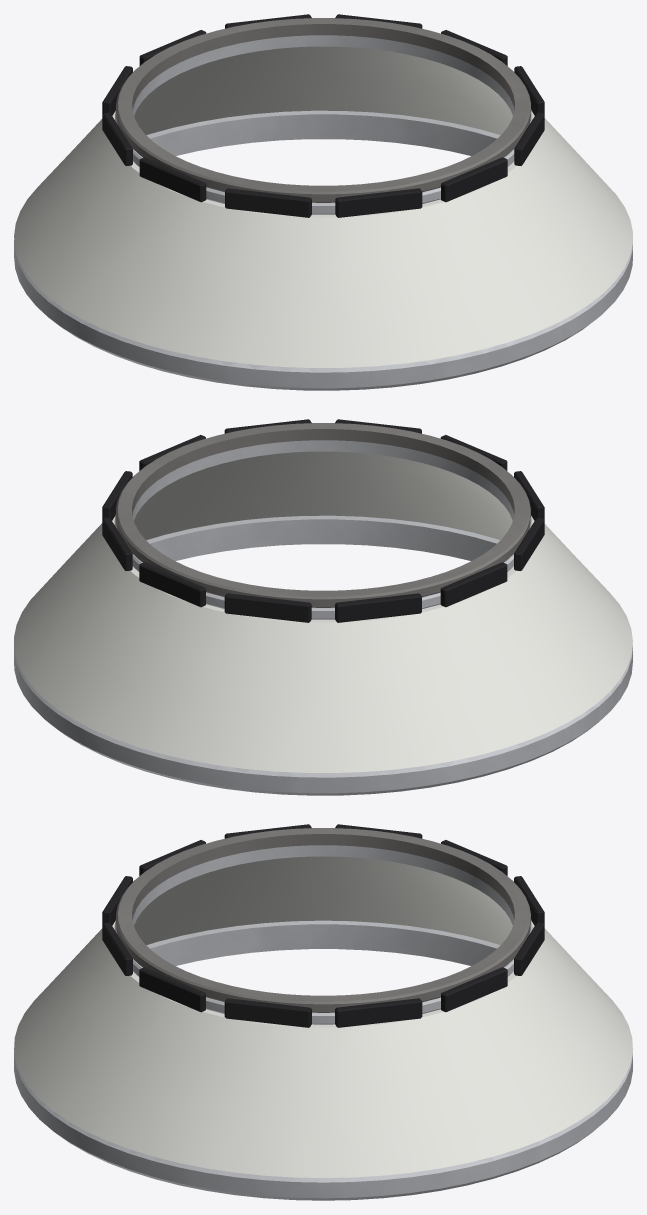
The model's file is ax_struct_16_payload_adapter_m.glb.
3 views of the same model, one above another, from view 1: azimuth 30°, elevation 25°; view 2: azimuth 150°, elevation 25°; view 3: azimuth 270°, elevation 25° (orthographic).
Visible parts, largest first — view 1: adapter_cone, base_ring, payload_ring, clamp_band, clamp_ring_lower; view 2: adapter_cone, base_ring, payload_ring, clamp_band, clamp_ring_lower; view 3: adapter_cone, base_ring, payload_ring, clamp_band, clamp_ring_lower.
Part boxes in pixels (<box>): adapter_cone: <box>14,46,632,367</box>; base_ring: <box>14,110,632,390</box>; payload_ring: <box>116,18,530,202</box>; clamp_band: <box>102,14,544,217</box>; clamp_ring_lower: <box>115,35,532,214</box>; adapter_cone: <box>14,451,632,772</box>; base_ring: <box>14,515,632,795</box>; payload_ring: <box>116,423,530,607</box>; clamp_band: <box>102,419,544,622</box>; clamp_ring_lower: <box>114,440,531,619</box>; adapter_cone: <box>14,856,632,1177</box>; base_ring: <box>14,920,632,1200</box>; payload_ring: <box>116,828,530,1012</box>; clamp_band: <box>102,824,544,1027</box>; clamp_ring_lower: <box>114,845,532,1024</box>.
Size of the model in its own units: 2.5 by 0.7 by 2.5.
4 materials, 2 textured.
